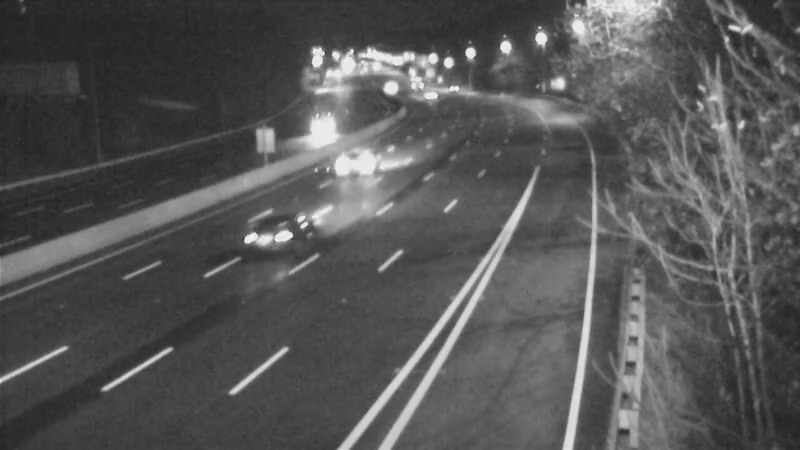vehicle: (319, 118, 399, 198), (232, 191, 312, 271), (429, 66, 479, 116), (389, 62, 439, 112), (365, 62, 415, 112), (405, 71, 455, 121), (296, 100, 346, 150)
